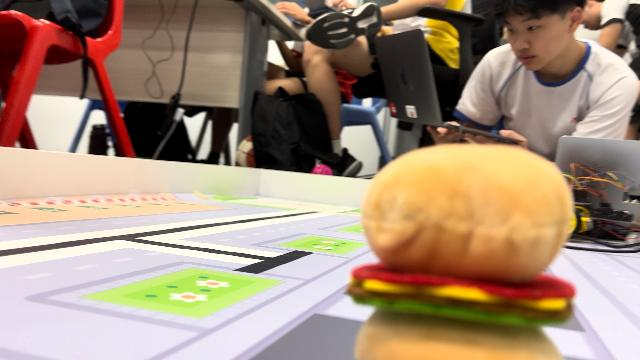burger: (342, 140, 576, 360)
